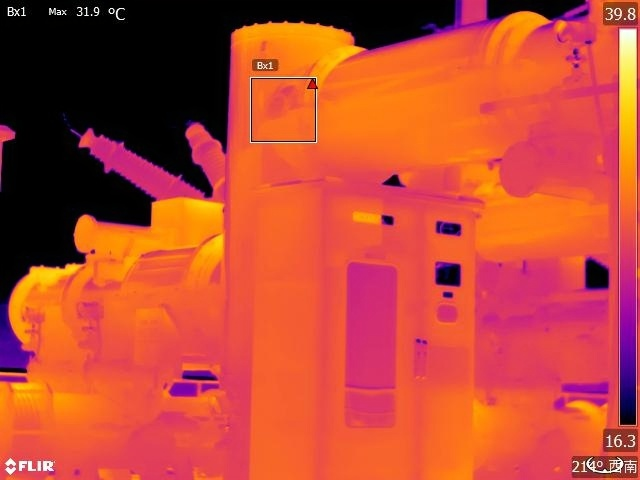tube: (74, 130, 206, 202), (183, 113, 228, 202)
